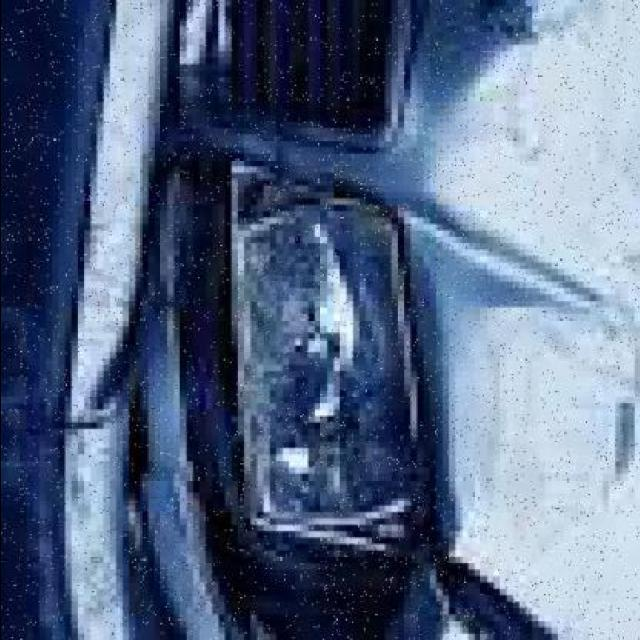Headlight-Damage: (197, 173, 460, 589)
front-bumper-dent: (7, 6, 211, 633)
